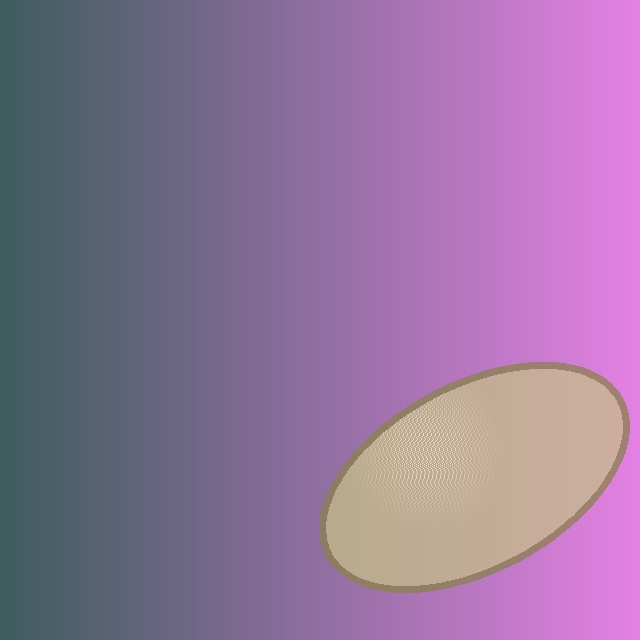lens: (322, 365, 626, 589)
